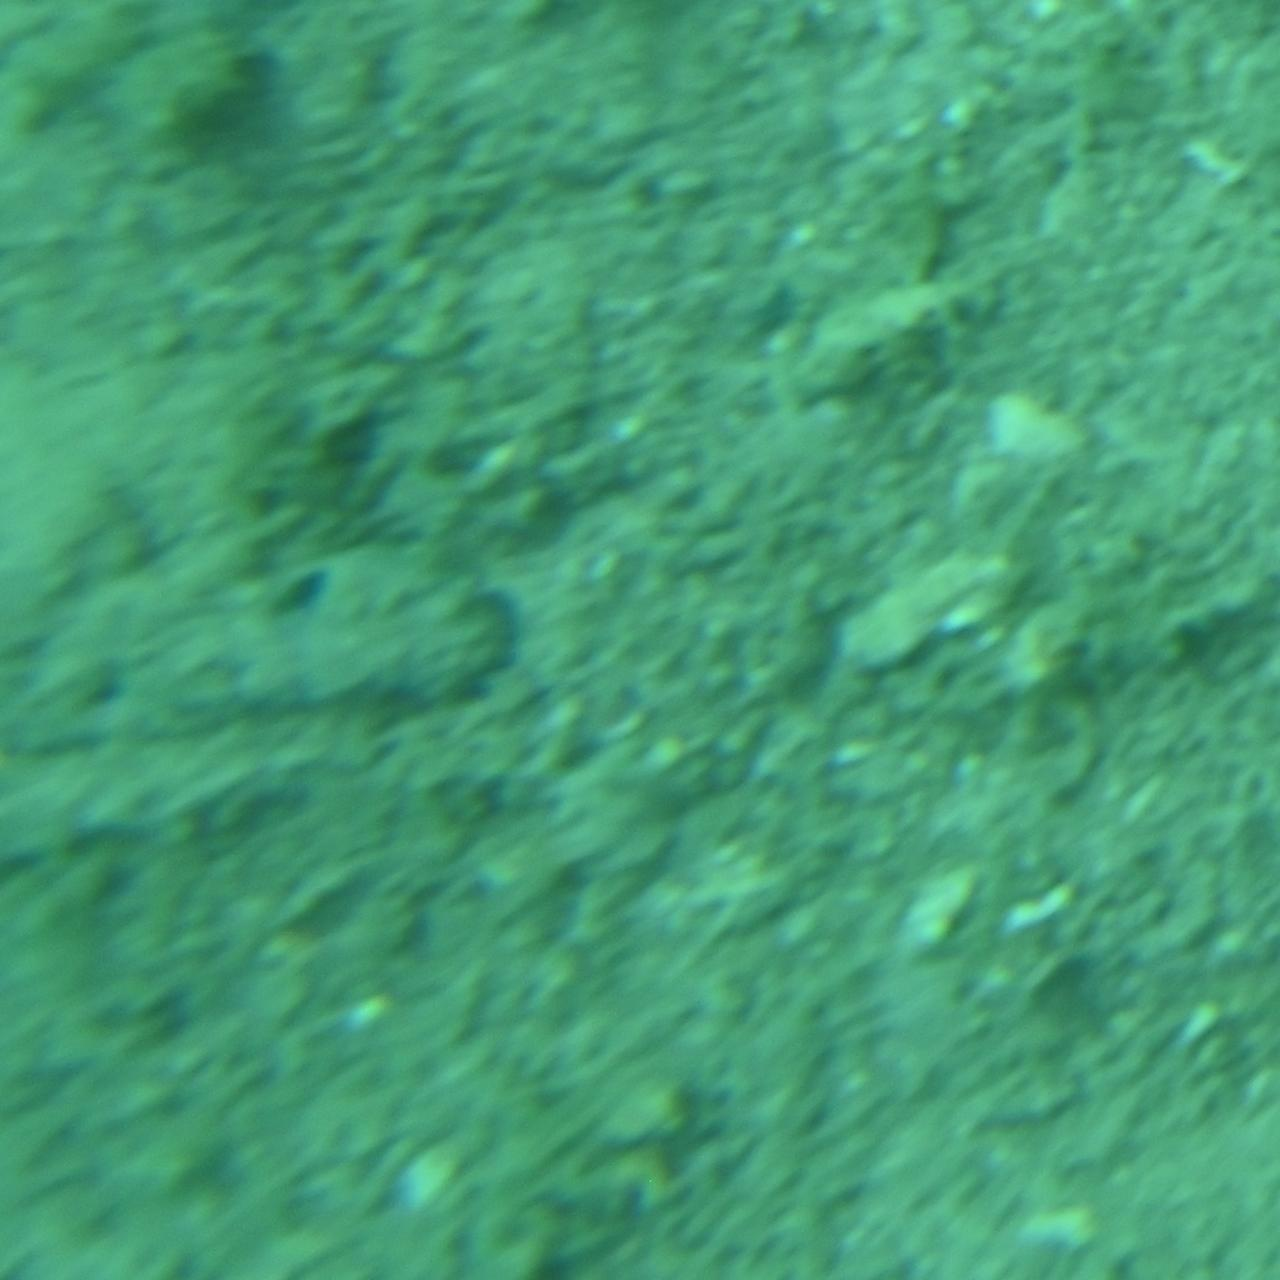Holothuria tubulosa: (2, 532, 545, 748)
